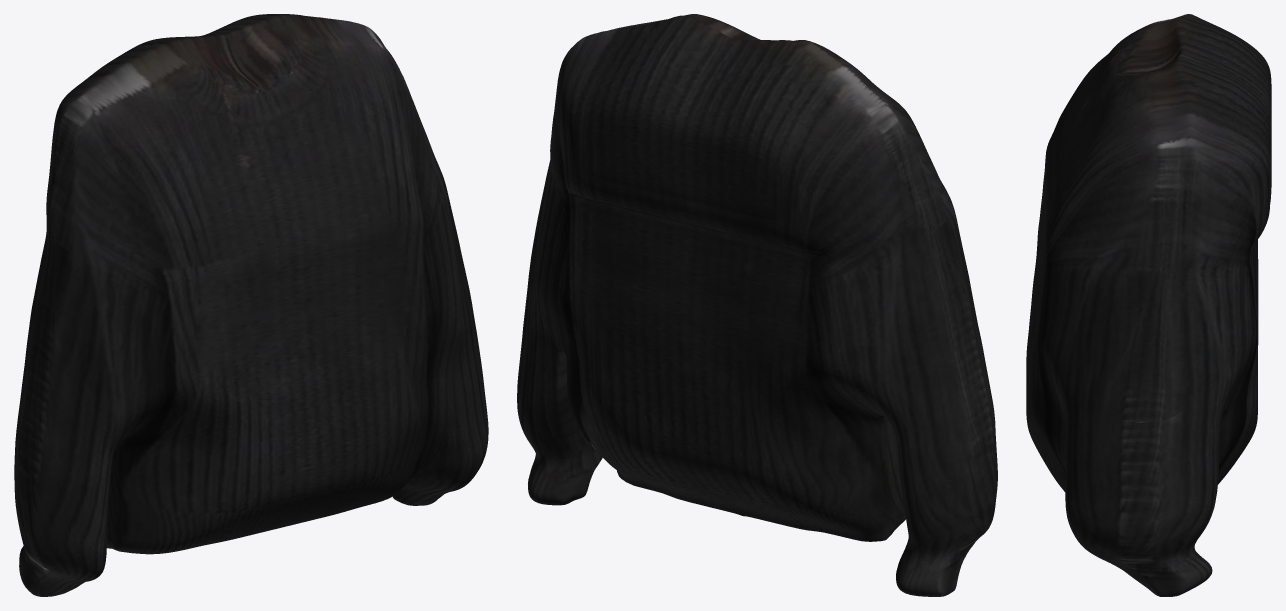
File: NF010-worn-v3.glb
3 renders of one model, left to right at view 1: azimuth 30°, elevation 25°; view 2: azimuth 150°, elevation 25°; view 3: azimuth 270°, elevation 25°, orthographic. The views are drawn at different scales.
Parts seen in each view (by area): view 1: NF010_worn_photo_fitted; view 2: NF010_worn_photo_fitted; view 3: NF010_worn_photo_fitted.
Part boxes in pixels (x1=…): NF010_worn_photo_fitted: x1=14, y1=14, x2=488, y2=596; NF010_worn_photo_fitted: x1=517, y1=14, x2=997, y2=596; NF010_worn_photo_fitted: x1=1026, y1=14, x2=1271, y2=596.
Size of the model in its own units: 0.585 by 0.6317 by 0.3002.
1 material, 1 textured.
